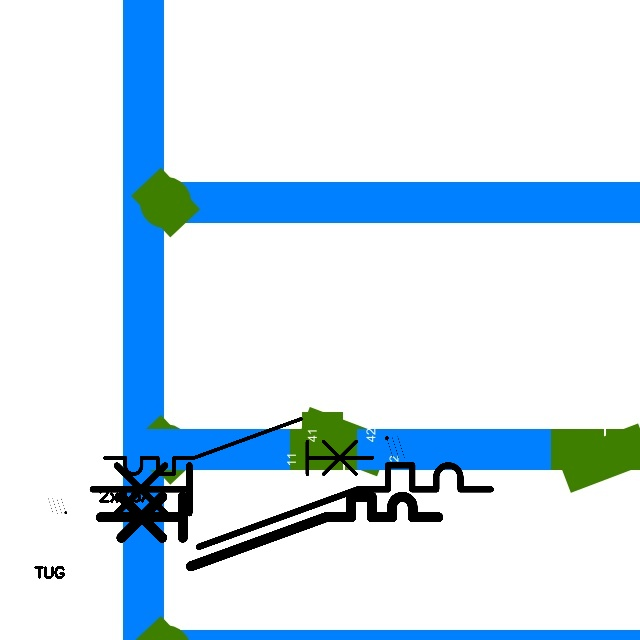interruptor_termomagnetico: (82, 455, 501, 557), (92, 488, 447, 575), (98, 412, 380, 481)
